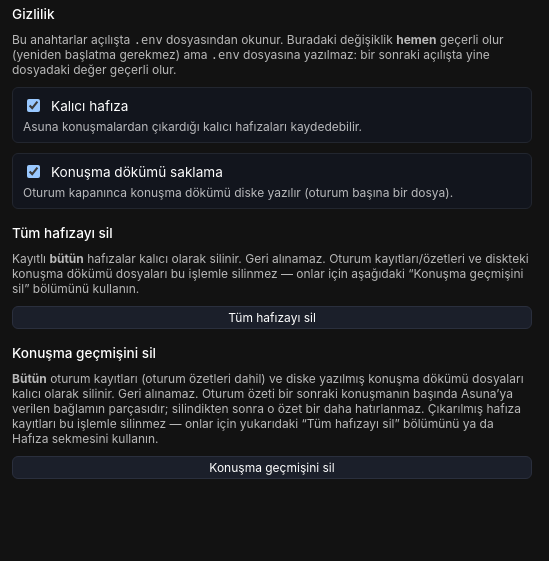
Test: SettingsView — tum hafizayi sil › silme hata verirse onay ekraninda kalir ve nedeni gosterir
The image size is (549, 561).
Click the button "Tüm hafızayı sil".
click(272, 318)  # box left=12, top=306, right=532, bottom=329
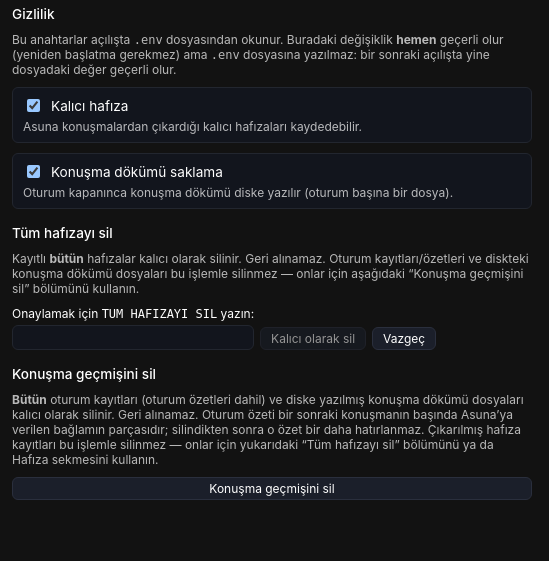
Type "TUM HAFIZAYI SIL" into the field.
click(133, 338); type("TUM HAFIZAYI SIL")  # box left=12, top=325, right=254, bottom=350
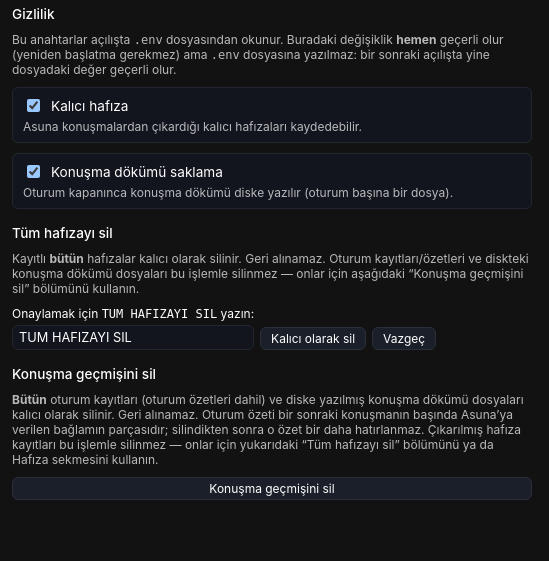
Click the button "Kalıcı olarak sil".
click(313, 338)  # box left=260, top=327, right=366, bottom=350
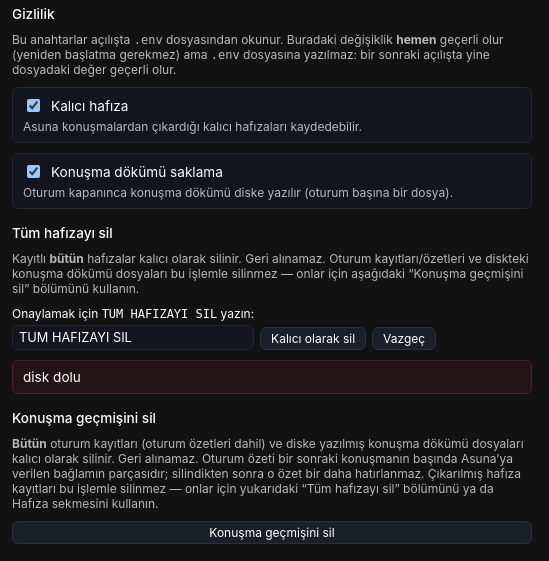
Check: the button "Kalıcı olarak sil" is shown, box left=260, top=327, right=366, bottom=350
Check: the message reads "disk dolu", box left=23, top=369, right=81, bottom=385
